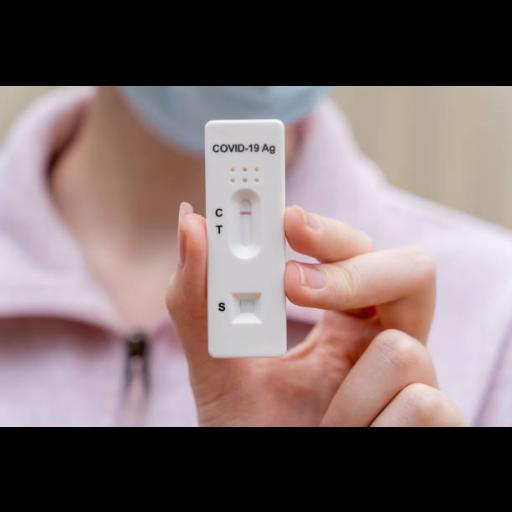Neg: (204, 119, 284, 355)
